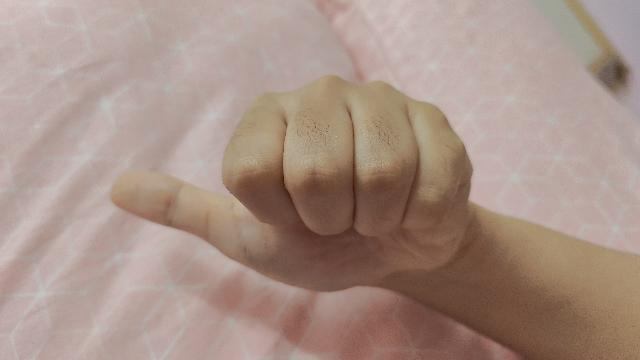shikhar: (108, 75, 640, 360)
